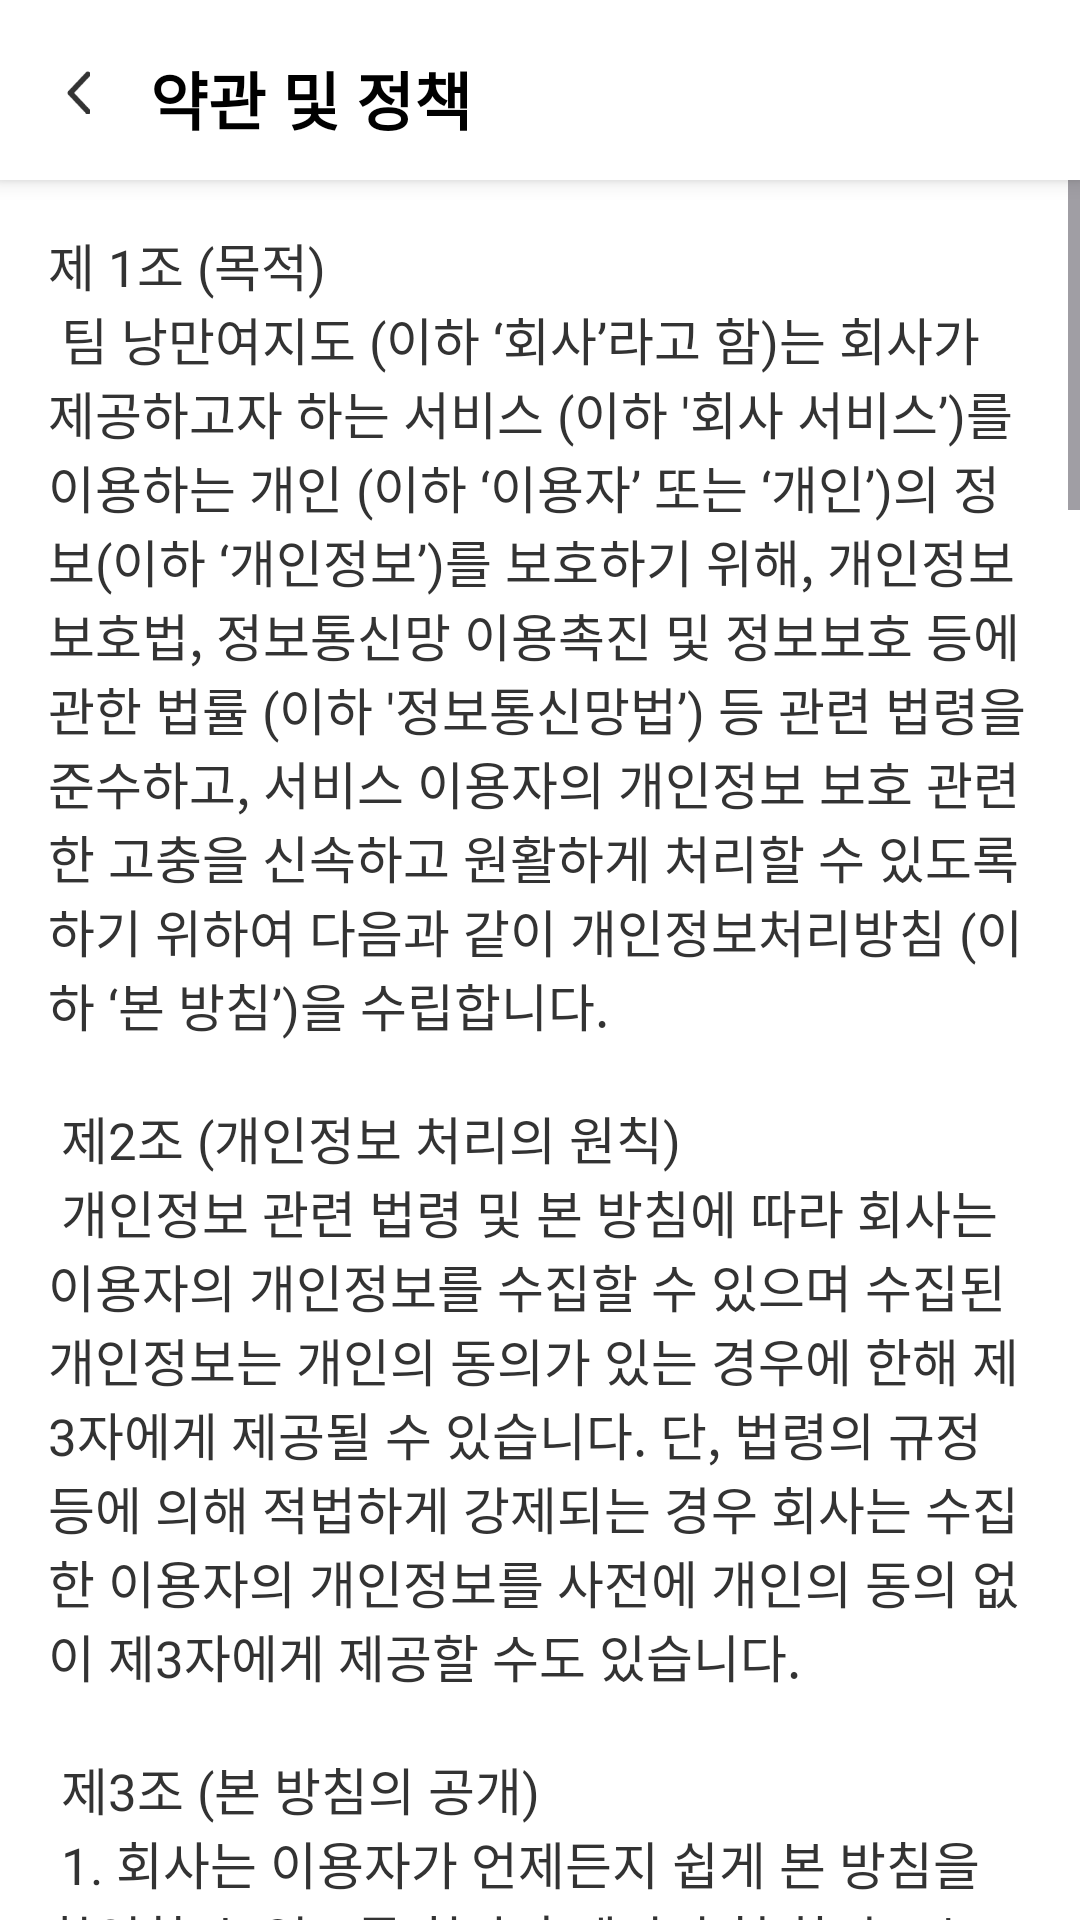

Icons on this 1080w x 1920h Android screen, each with the point to tap as [x,y]:
back: [78,92]
